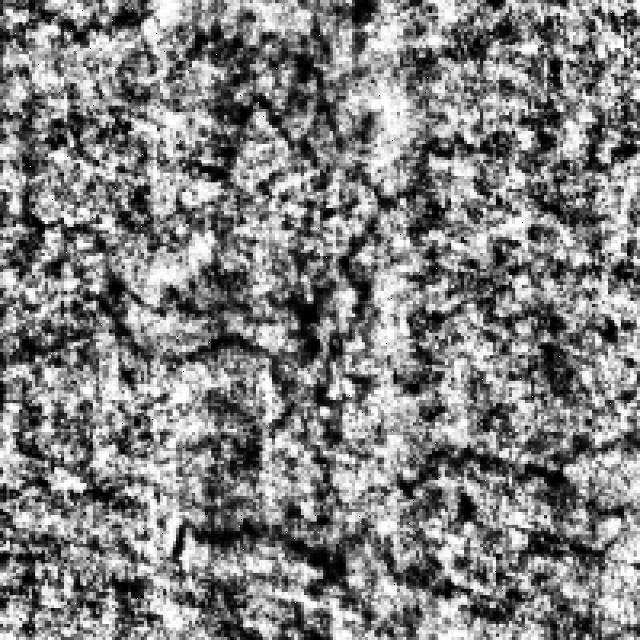Pitted_Surface: (74, 58, 394, 416), (176, 371, 634, 618)
